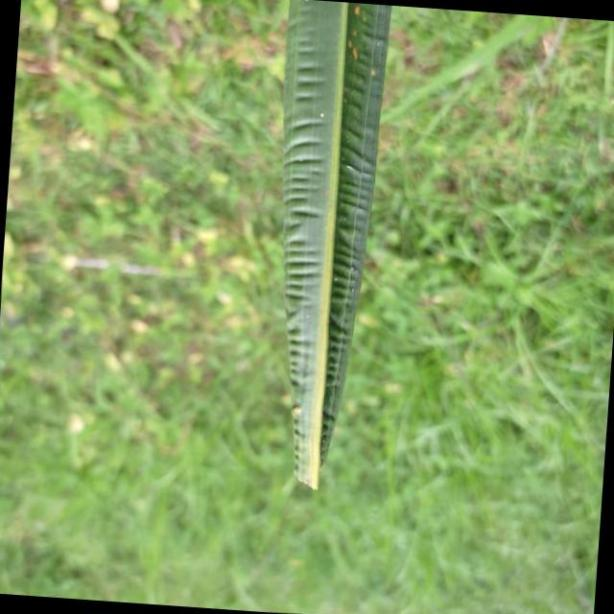Boron: (287, 0, 388, 492)
